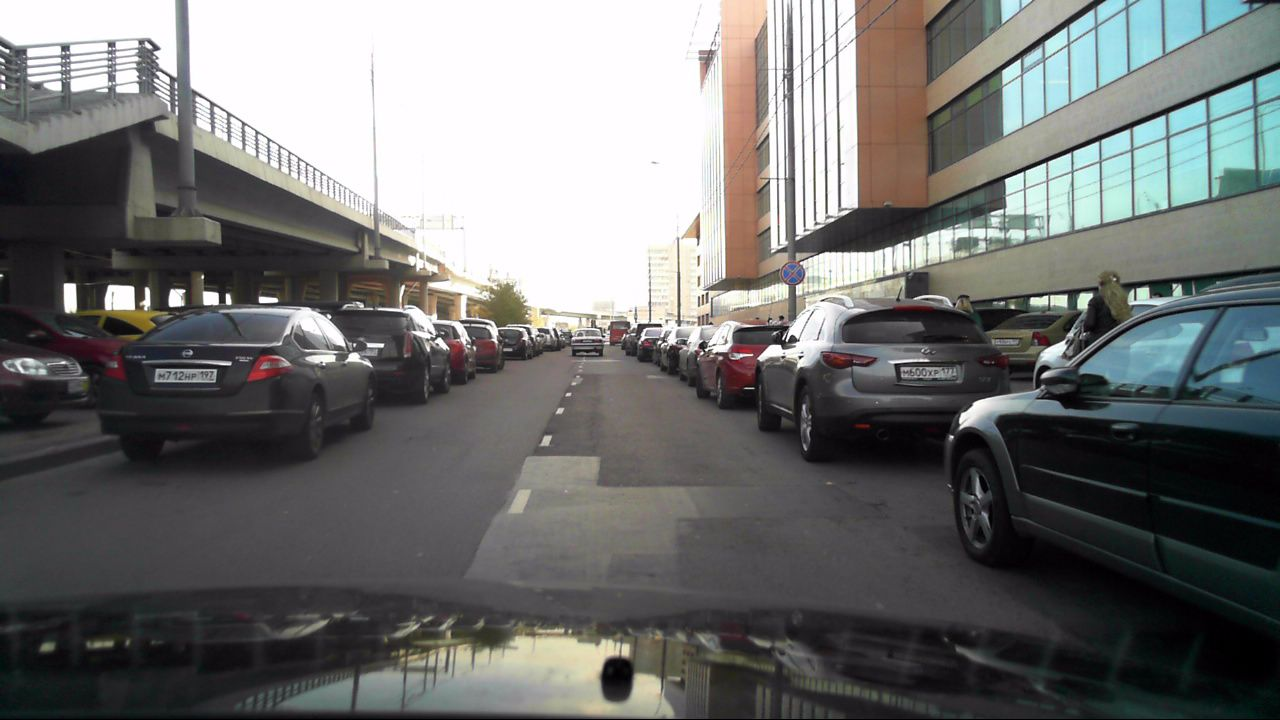No Parking: (779, 261, 806, 285)
